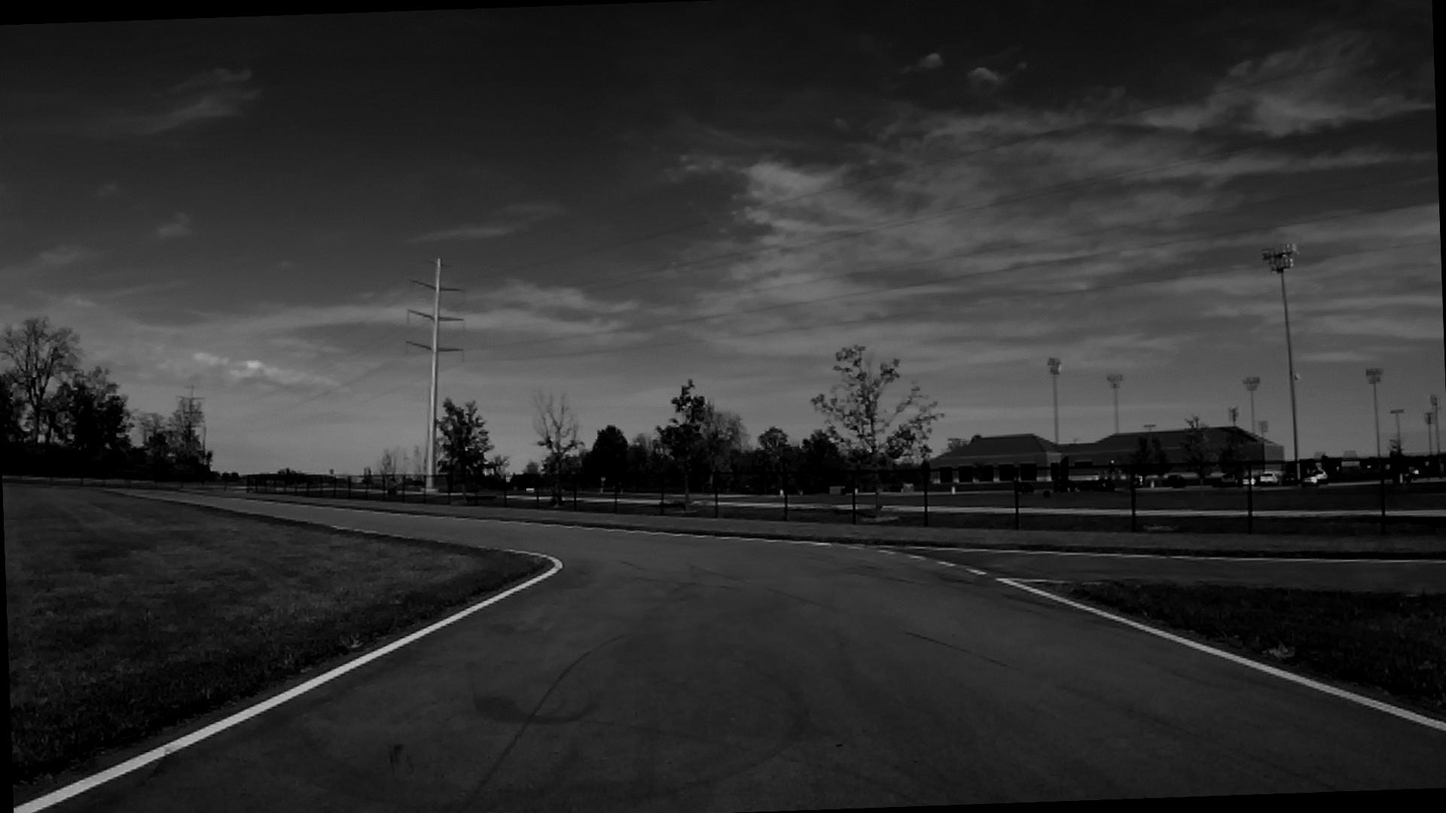white-line: (13, 549, 563, 813), (995, 577, 1446, 733), (566, 526, 832, 546), (933, 559, 987, 575), (904, 553, 928, 560), (877, 549, 898, 554), (909, 555, 922, 559)
